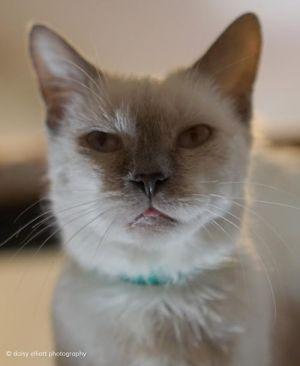siamese: (25, 6, 268, 262)
